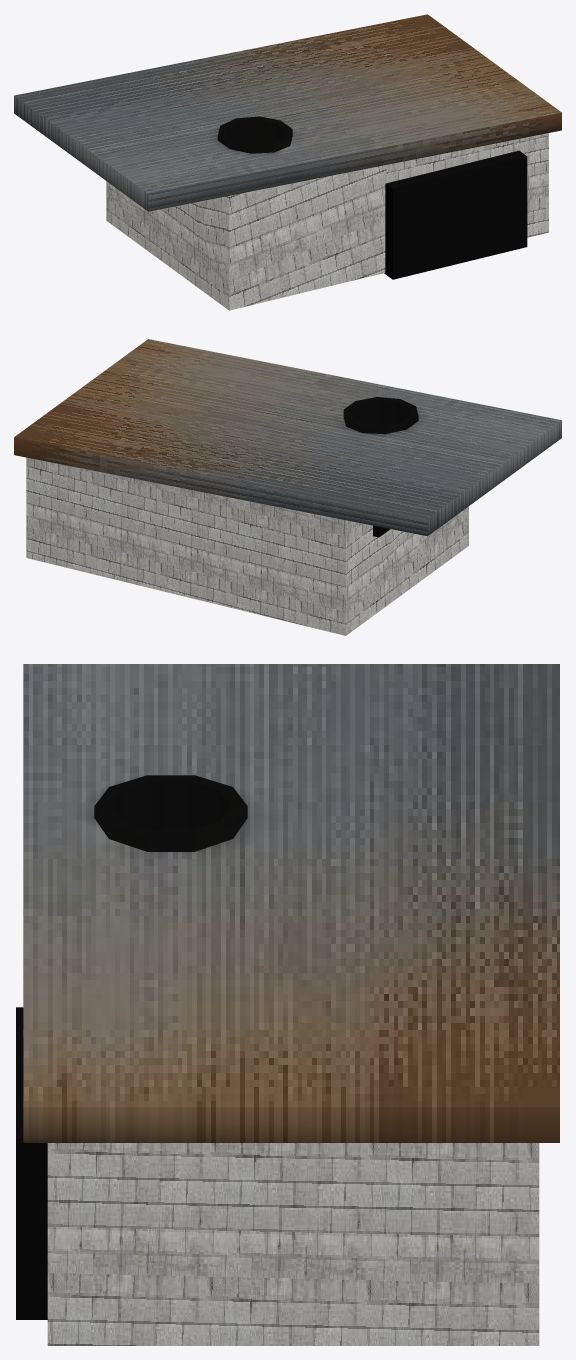
Rendered from garage.glb.
3 views of the same model, one above another, from view 1: azimuth 30°, elevation 25°; view 2: azimuth 150°, elevation 25°; view 3: azimuth 270°, elevation 25° (orthographic). The views are drawn at different scales.
Parts seen in each view (by area): view 1: Roof, Walls, DoorBlock, CeilingFanShaft; view 2: Roof, Walls, CeilingFanShaft; view 3: Roof, Walls, CeilingFanShaft, DoorBlock.
Part boxes in pixels (x1,y1,x2,y2): Roof: (14,14,561,211); Walls: (106,133,548,310); DoorBlock: (384,150,527,279); CeilingFanShaft: (217,116,292,153); Roof: (14,339,561,536); Walls: (26,457,468,635); CeilingFanShaft: (343,397,418,434); Roof: (23,664,559,1142); Walls: (47,1143,539,1345); CeilingFanShaft: (94,775,247,851); DoorBlock: (16,1007,47,1319).
Size of the model in its own units: 12.47 by 4.16 by 7.1.
16 materials, 10 textured.
